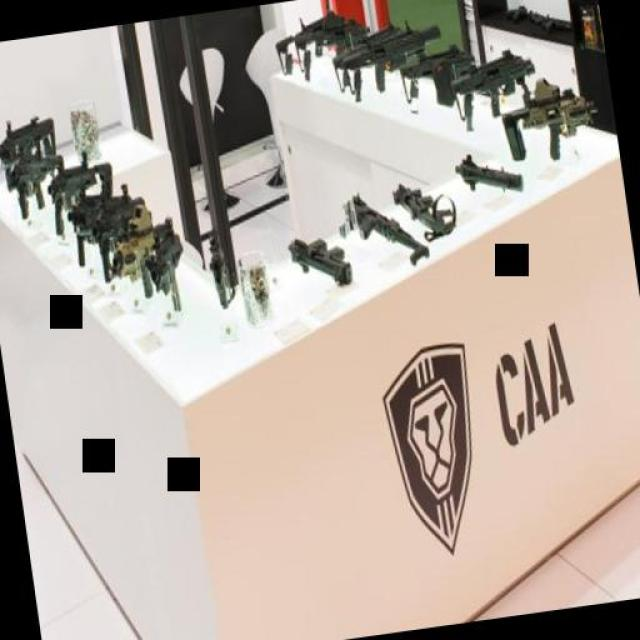gun: (451, 145, 524, 204)
